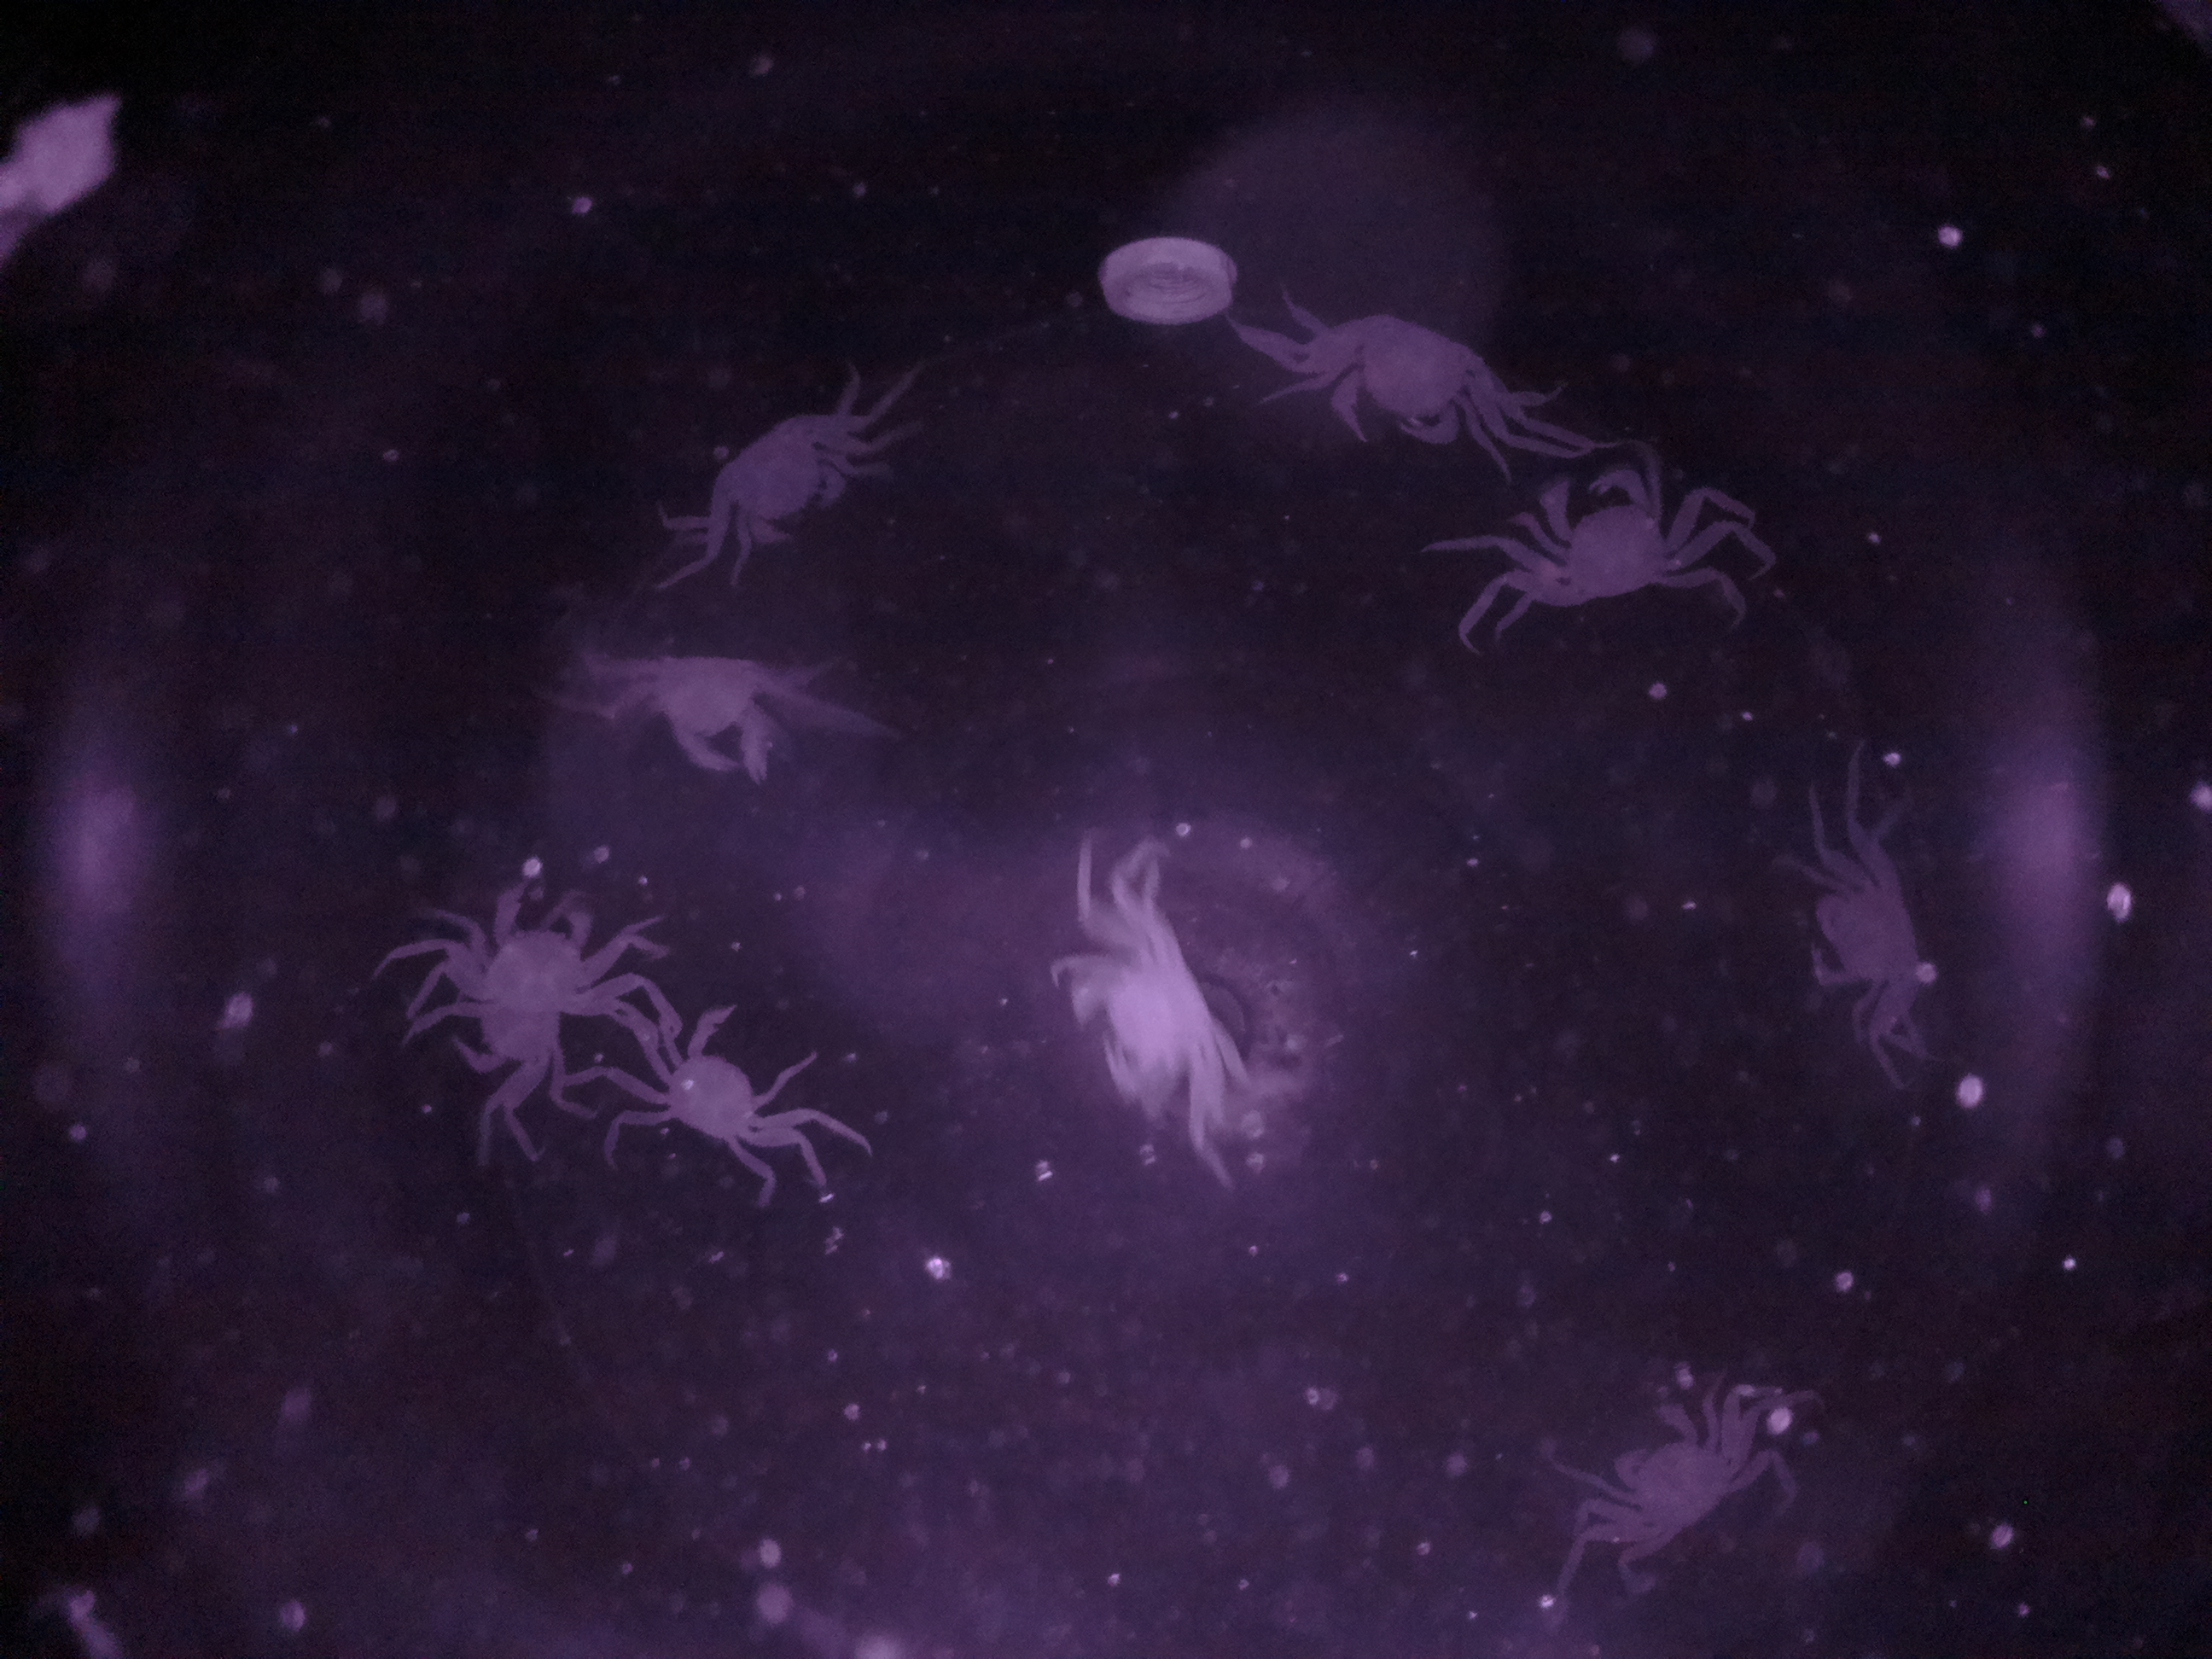Crab: (1285, 307, 1521, 462), (637, 981, 836, 1164), (1486, 460, 1709, 619), (1580, 1378, 1761, 1574), (681, 387, 860, 565)
